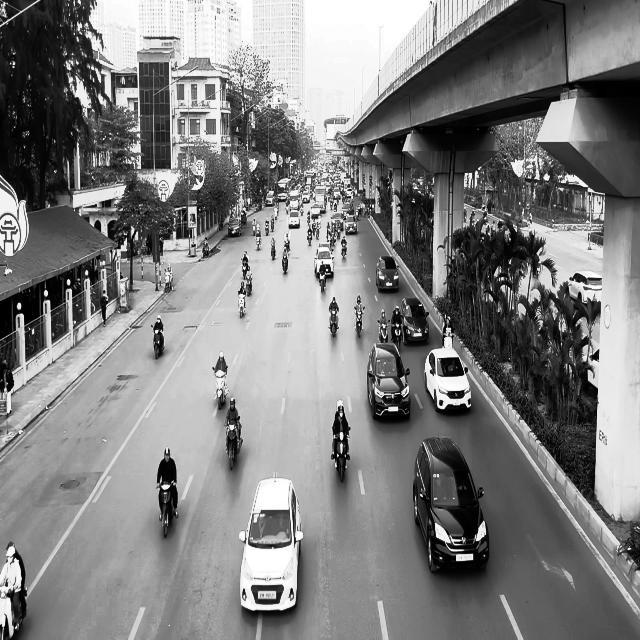car: (412, 434, 490, 573), (238, 472, 304, 613), (366, 342, 411, 420), (424, 347, 471, 412), (566, 270, 602, 308), (400, 297, 429, 344), (376, 256, 400, 292), (228, 218, 241, 236)
motorbike: (0, 584, 27, 639), (156, 480, 176, 537), (331, 426, 351, 482), (225, 418, 242, 470), (212, 366, 228, 409), (151, 324, 164, 359), (328, 306, 339, 336), (354, 306, 364, 338), (237, 291, 246, 318), (318, 270, 326, 293), (282, 248, 289, 273), (270, 240, 276, 260)
